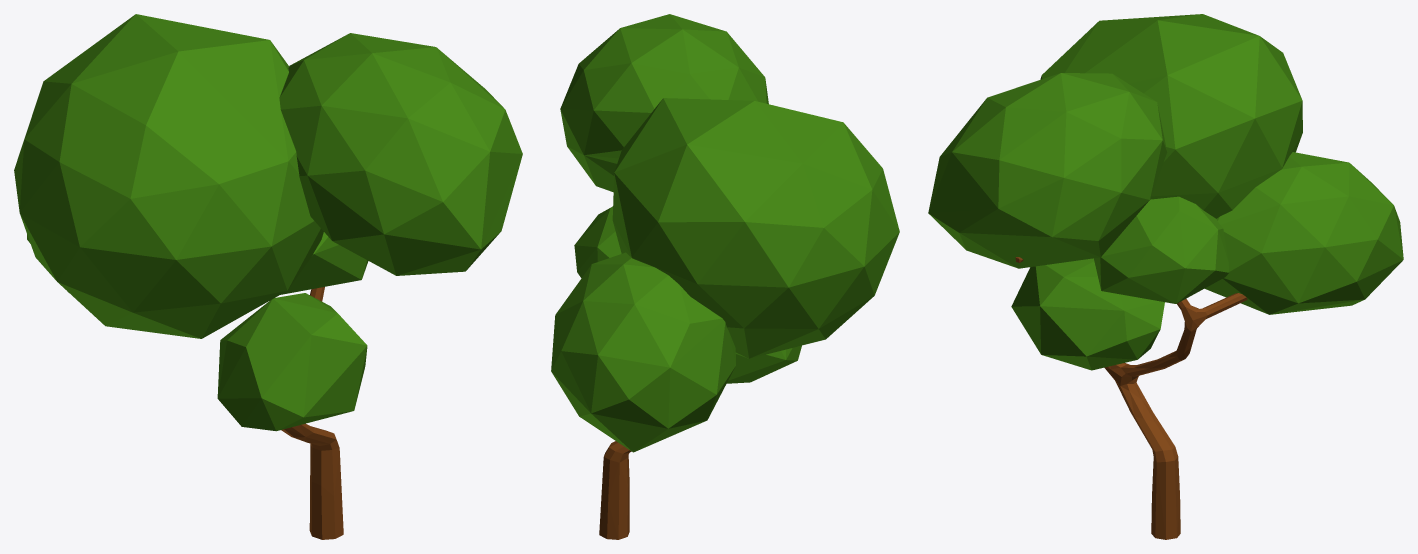
Rendered from oak_3.glb.
3 views of the same model, side by side, from view 1: azimuth 30°, elevation 25°; view 2: azimuth 150°, elevation 25°; view 3: azimuth 270°, elevation 25° (orthographic). The views are drawn at different scales.
Parts seen in each view (by area): view 1: Icosphere.001; view 2: Icosphere.001; view 3: Icosphere.001.
Part boxes in pixels (bbox=[...]): Icosphere.001: bbox=[14, 14, 522, 539]; Icosphere.001: bbox=[551, 14, 899, 539]; Icosphere.001: bbox=[928, 14, 1403, 539].
Bounding box in the file's own units: 6.23 × 7.71 × 7.31.
